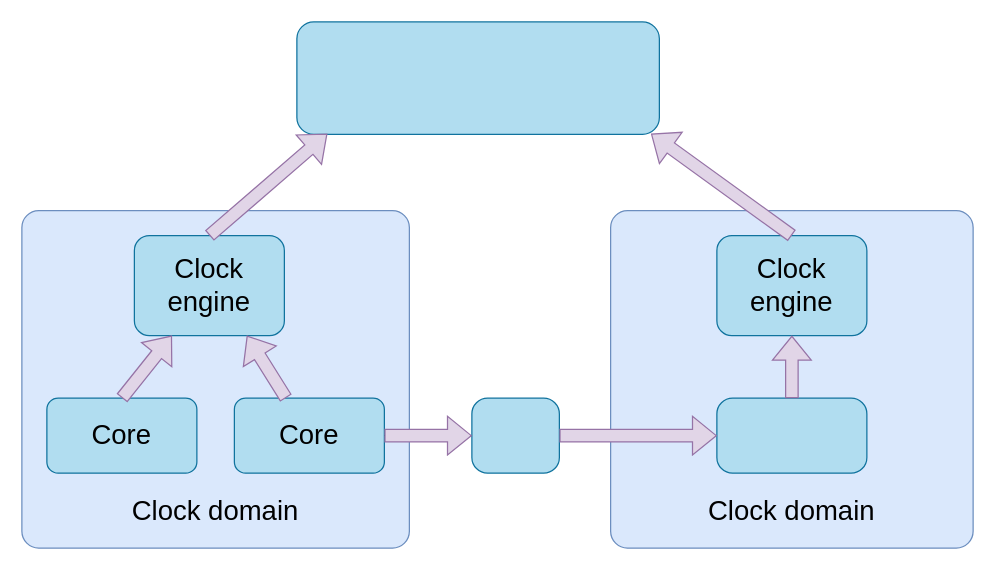
The diagram is 995 pixels wide and 570 high, and some of its shapes have lost their labels. The box of each missing label's shape, as (x1, y1, x2, y2) in pixels:
Memory: (716, 397, 867, 473)
Stub: (471, 397, 559, 473)
Time engine: (296, 21, 659, 134)
